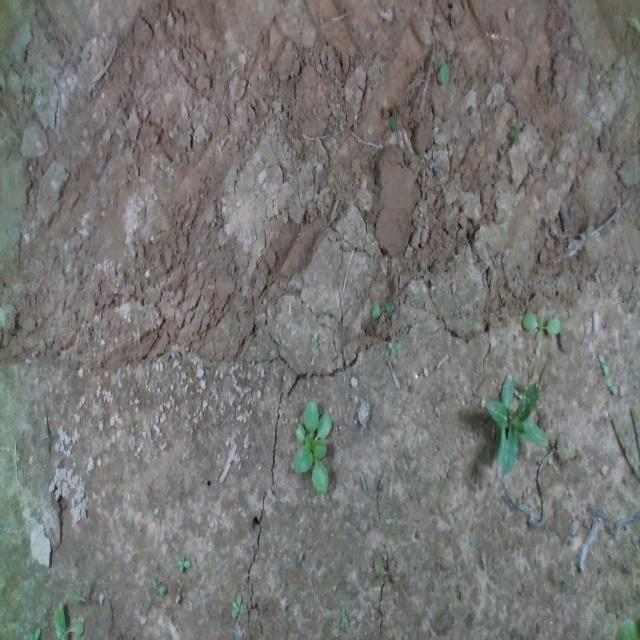weed: (520, 308, 562, 339), (229, 592, 245, 619), (150, 574, 166, 596), (175, 551, 191, 573), (597, 350, 609, 377), (606, 376, 618, 396)
